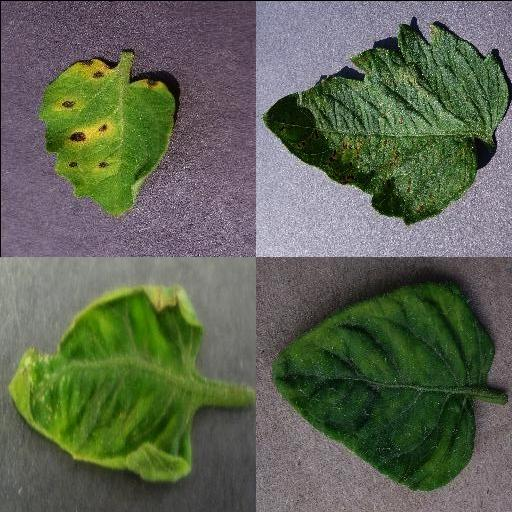Septoria: (262, 22, 512, 226), (40, 56, 174, 214)
Yellow Leaf Curl Virus: (268, 278, 496, 492), (8, 284, 204, 481)
